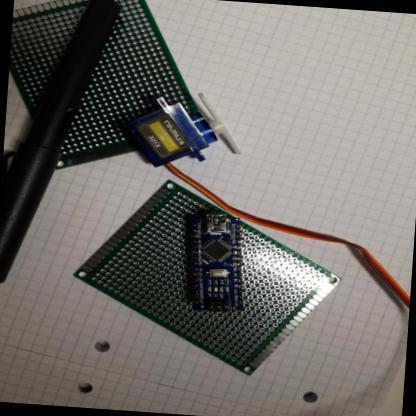Arduino_Nano: (182, 211, 253, 319)
